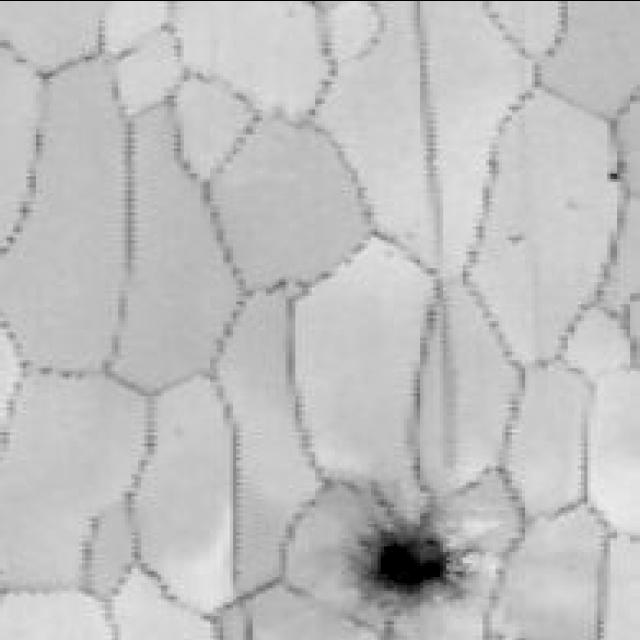good_void: (343, 478, 484, 612), (505, 227, 526, 245), (604, 168, 623, 183)
